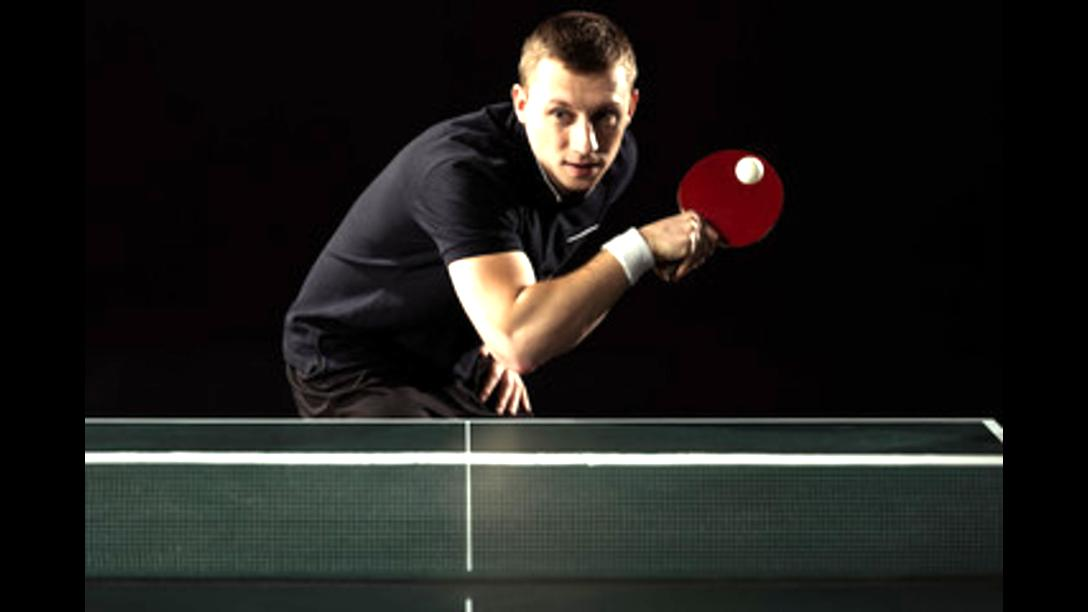Table-Tennis-Ball: (736, 157, 764, 183)
